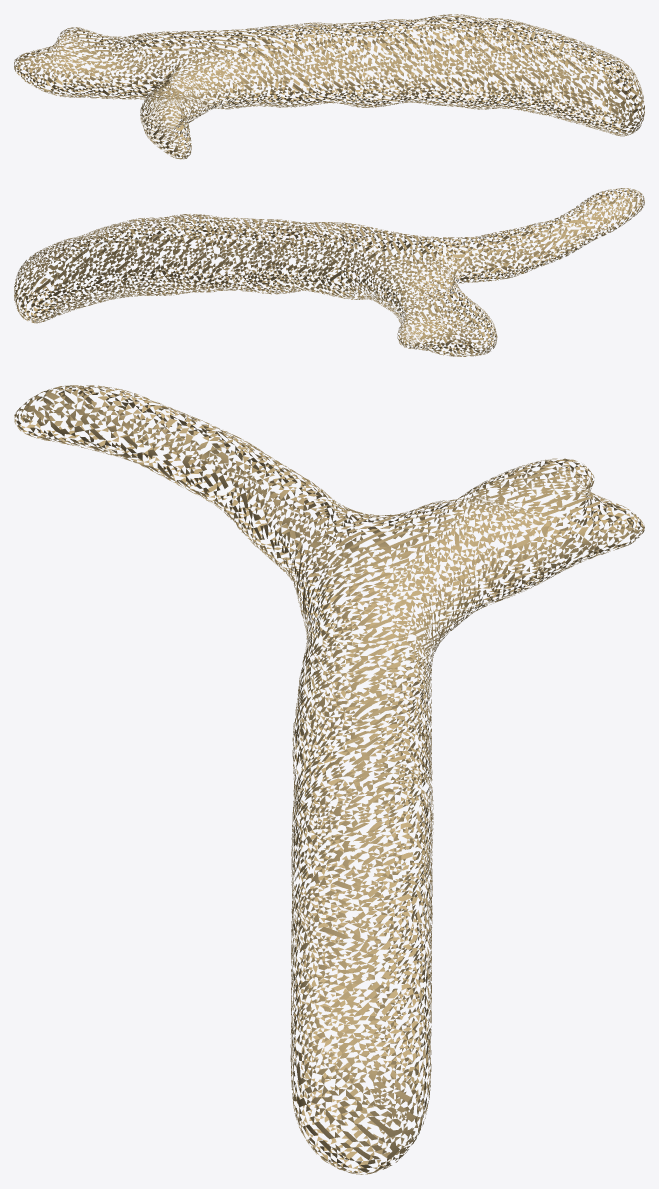
File: morph_007.glb
The picture shows the model from 3 angles, top to bottom: view 1: azimuth 30°, elevation 25°; view 2: azimuth 150°, elevation 25°; view 3: azimuth 270°, elevation 25°; orthographic projection. The views are drawn at different scales.
Size of the model in its own units: 113 by 40.18 by 65.23.
